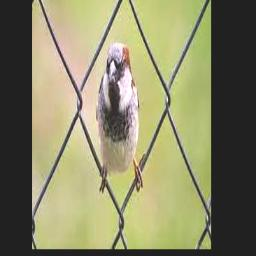Sparrow: (97, 42, 140, 177)
